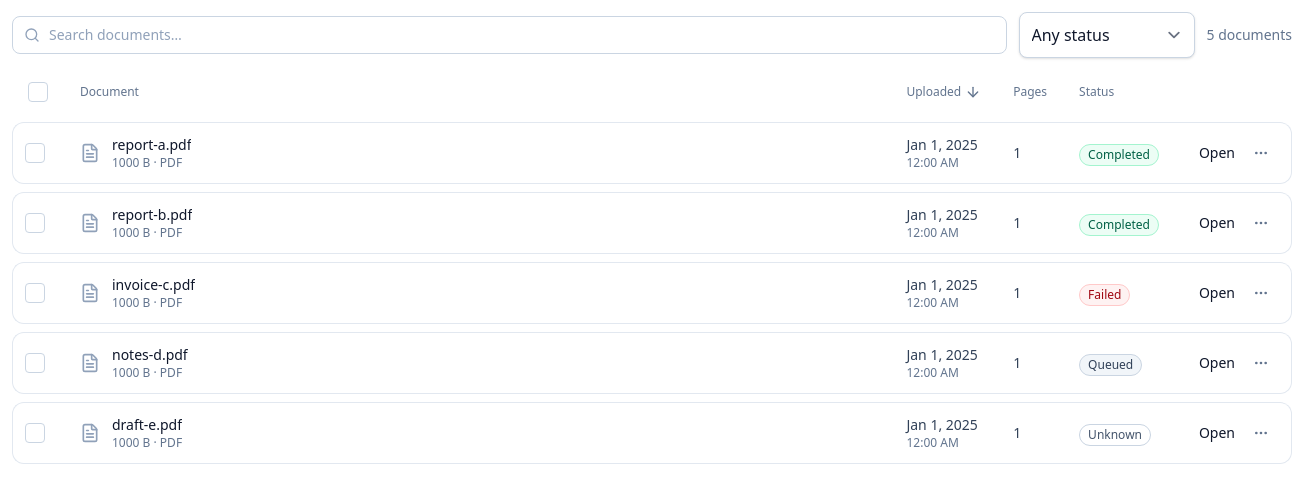
Test: filters to failed documents only
This screenshot has width=1304, height=481.
Select "Failed" in the dropdown named "Status" at coordinates (1106, 35), box [1018,12,1194,58]
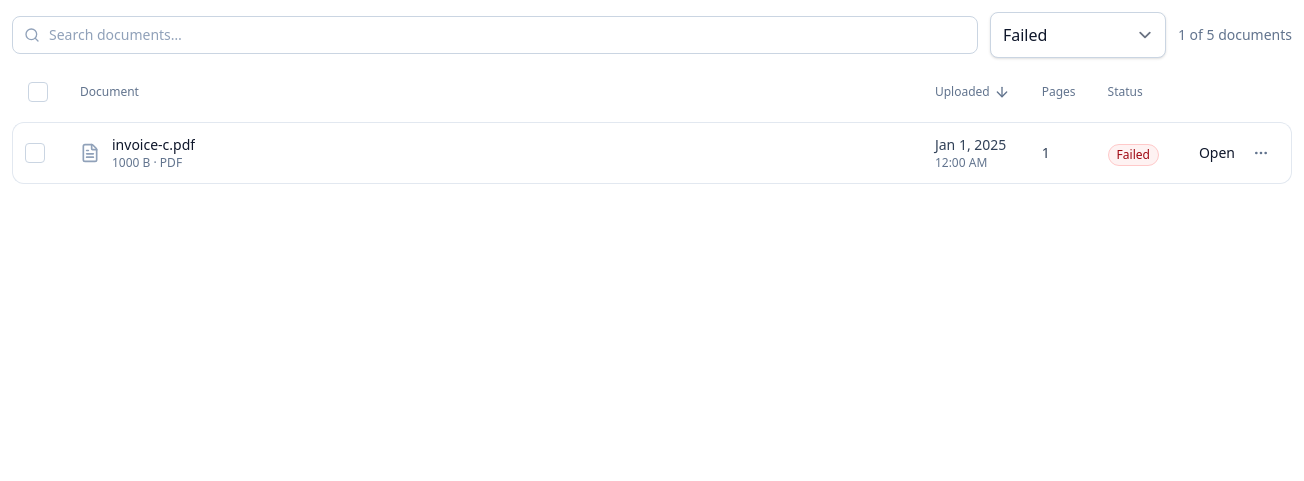
Now the text "1 of 5 documents" is shown, box [1178,25,1292,45]
Now the link "report-a.pdf" is gone
Now the link "report-b.pdf" is gone
